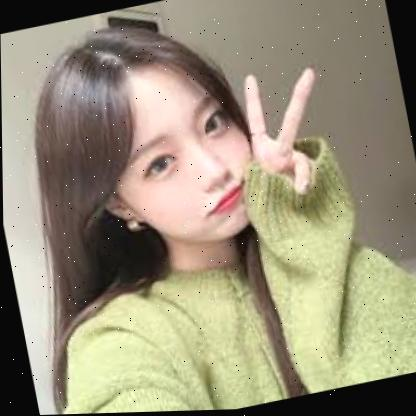person: (39, 11, 263, 269)
